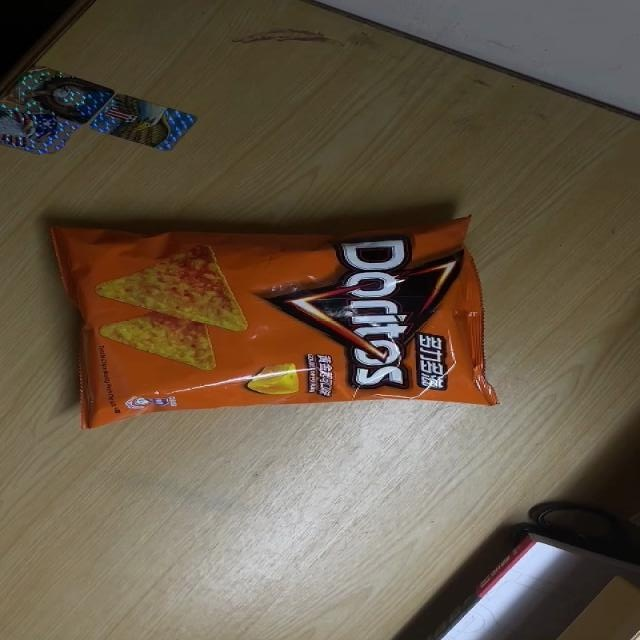Doritos: (42, 212, 502, 432)
